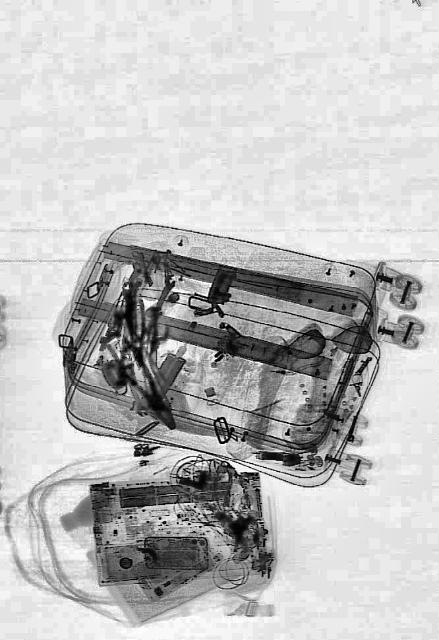Pliers: (102, 320, 184, 438)
